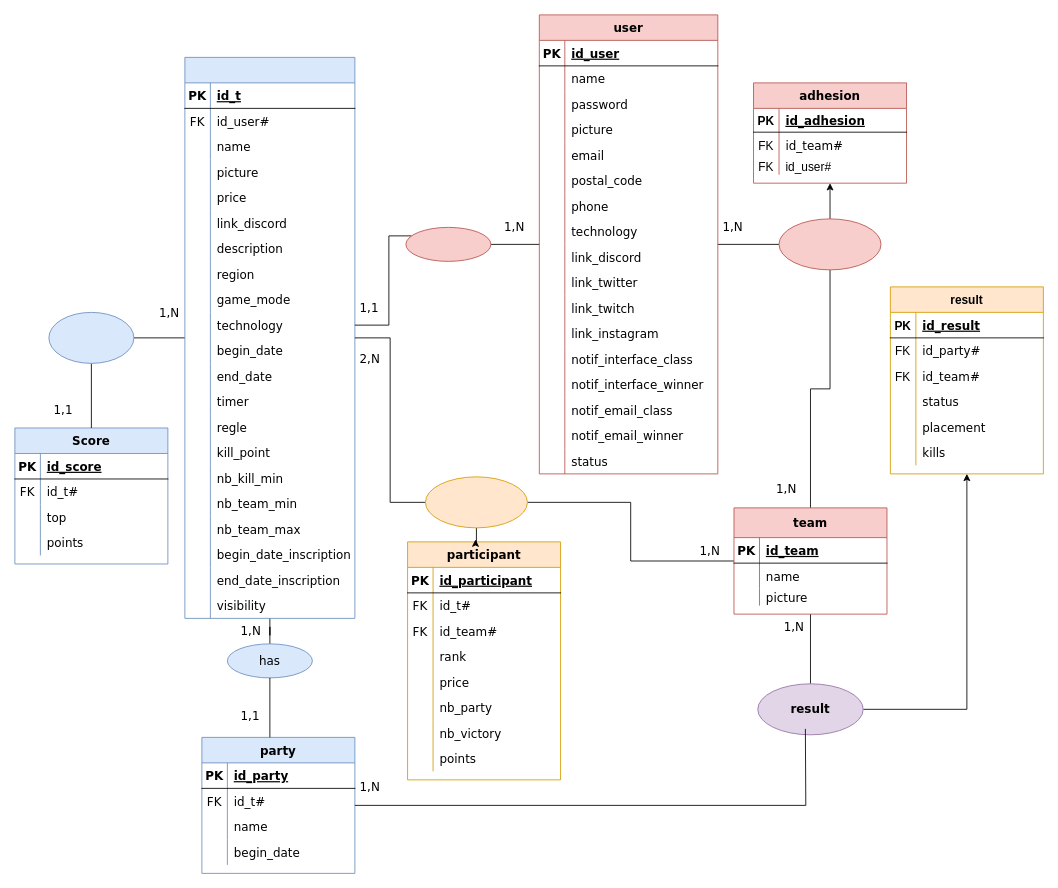
Image size: 1058x888. Some labels were removed from this diagram. The shapes that lost their labels are listed below. From the top down, each one's box as (x1, y1, x2, y2) in pixels, then its label:
(405, 227, 491, 261): organize
(778, 218, 881, 270): adhere
(48, 312, 134, 363): define
(184, 57, 355, 618): tournament
(425, 476, 527, 528): participe
